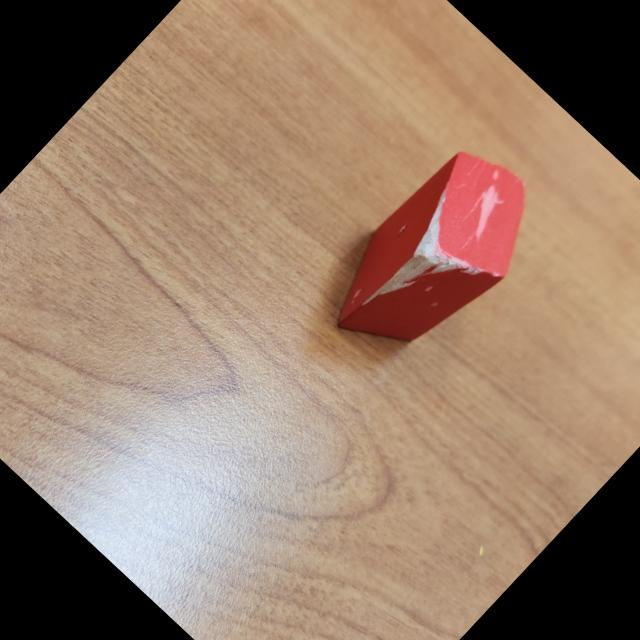broken: (314, 130, 562, 384)
